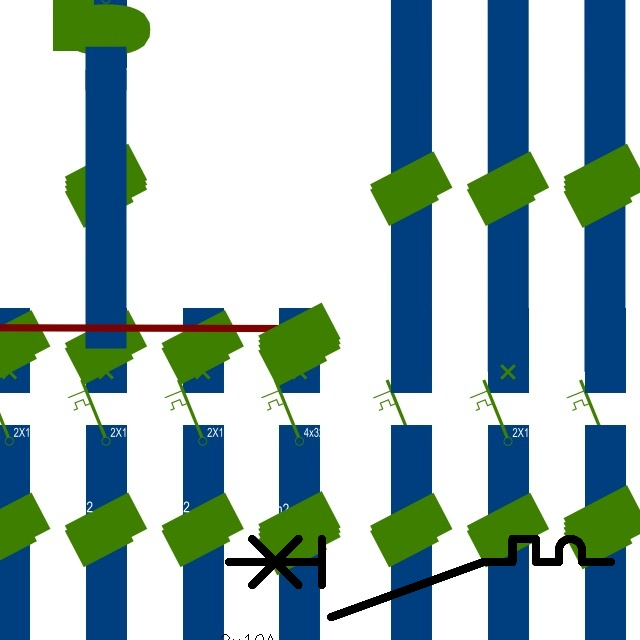interruptor_termomagnetico: (219, 529, 621, 627)
